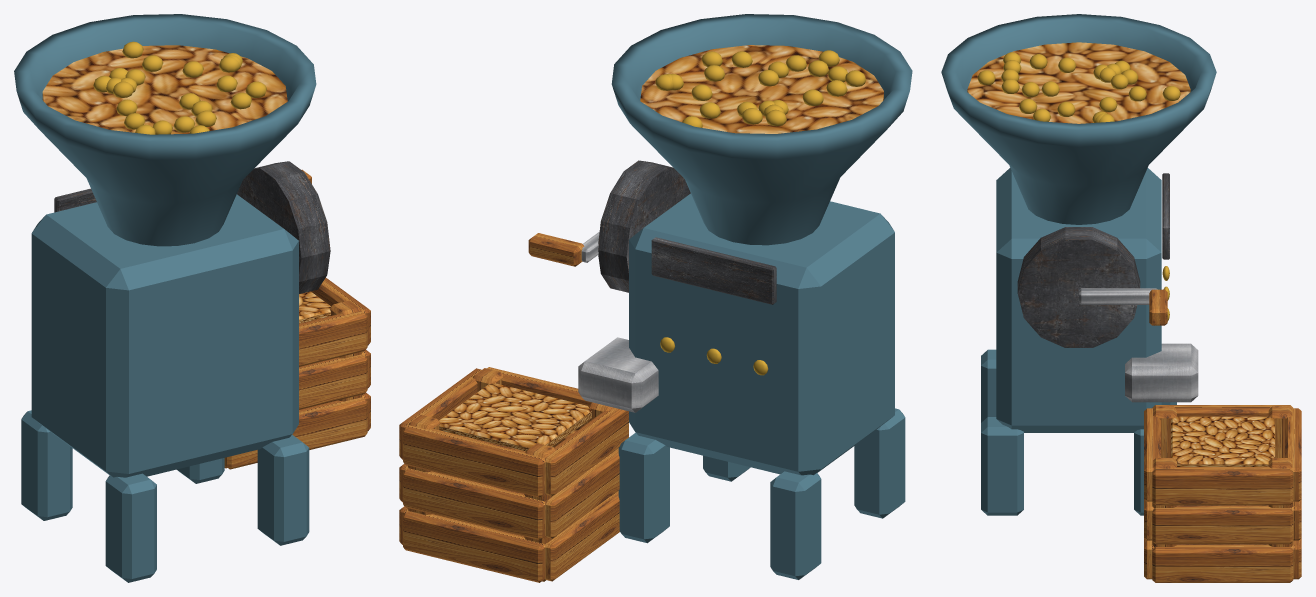
File: CoopCozy_Machine.fbx
3 views of the same model, side by side, from view 1: azimuth 30°, elevation 25°; view 2: azimuth 150°, elevation 25°; view 3: azimuth 270°, elevation 25° (orthographic). The views are drawn at different scales.
Parts seen in each view (by area): view 1: CoopCozy_Machine; view 2: CoopCozy_Machine; view 3: CoopCozy_Machine.
Boxes of the visible parts, box(x1,y1,x2,y2) form: CoopCozy_Machine: box(14, 14, 370, 582); CoopCozy_Machine: box(399, 14, 912, 582); CoopCozy_Machine: box(941, 14, 1301, 582).
Bounding box in the file's own units: 1.3 × 1.46 × 1.18.
